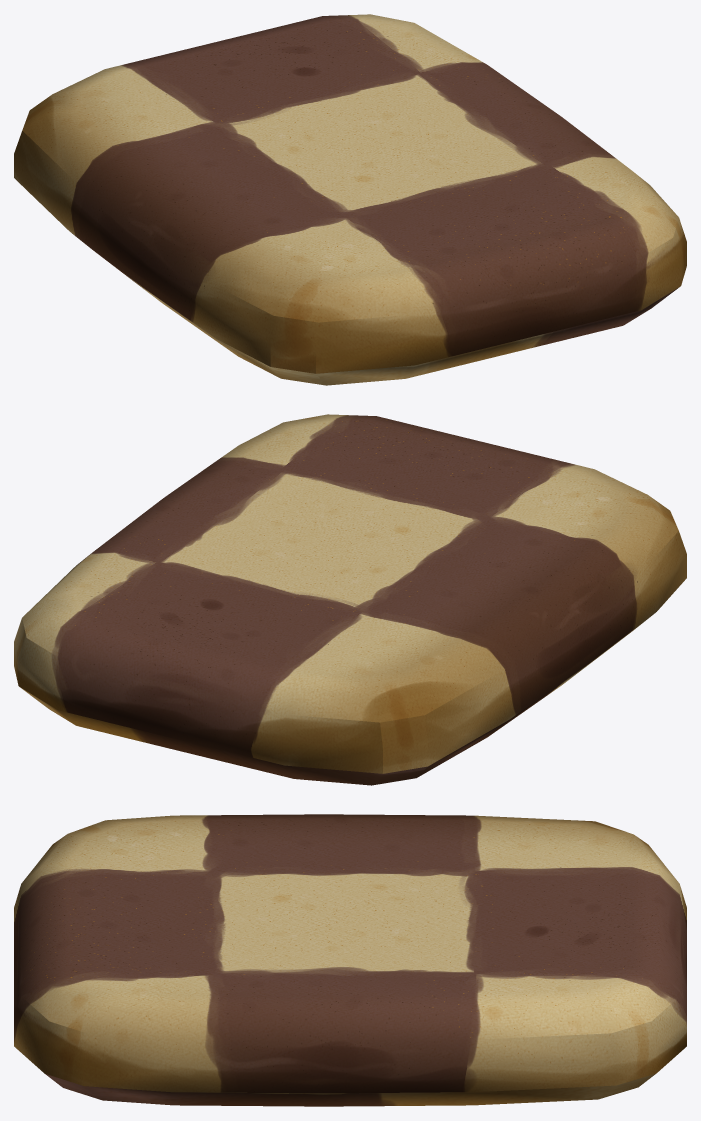
Rendered from ChequeredSweets.fbx.
The picture shows the model from 3 angles, top to bottom: view 1: azimuth 30°, elevation 25°; view 2: azimuth 150°, elevation 25°; view 3: azimuth 270°, elevation 25°; orthographic projection. The views are drawn at different scales.
Parts seen in each view (by area): view 1: ChequeredSweet; view 2: ChequeredSweet; view 3: ChequeredSweet.
Boxes of the visible parts, x1=… form: ChequeredSweet: x1=14, y1=14, x2=686, y2=385; ChequeredSweet: x1=14, y1=414, x2=686, y2=785; ChequeredSweet: x1=14, y1=814, x2=686, y2=1106.
Bounding box in the file's own units: 6.04 × 1.25 × 7.69.
